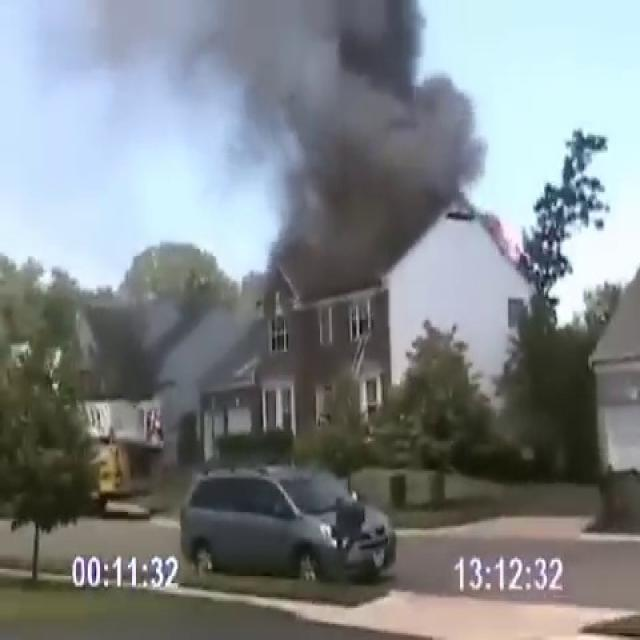Smoke: (7, 0, 501, 300)
